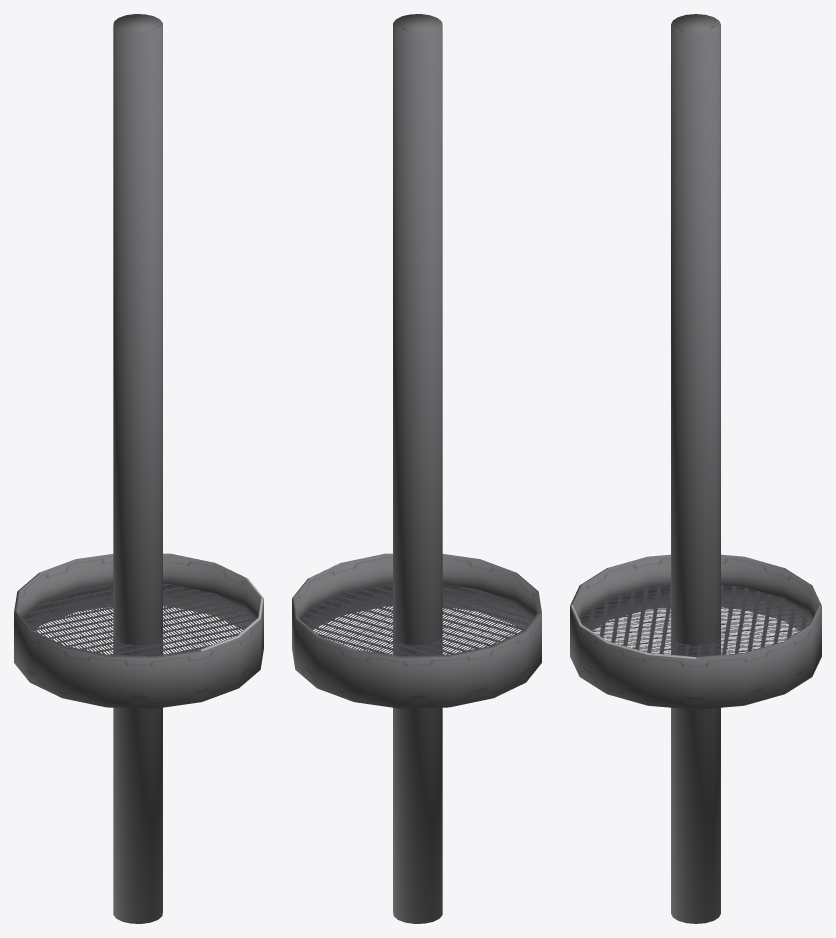
File: mdlMiddlePillar.fbx
The picture shows the model from 3 angles, left to right: view 1: azimuth 30°, elevation 25°; view 2: azimuth 150°, elevation 25°; view 3: azimuth 270°, elevation 25°; orthographic projection.
Visible parts, largest first — view 1: MiddleStand; view 2: MiddleStand; view 3: MiddleStand.
Part boxes in pixels (x1,y1,x2,y2): MiddleStand: [14, 14, 263, 923]; MiddleStand: [292, 14, 541, 923]; MiddleStand: [570, 14, 821, 923].
Size of the model in its own units: 14.5 by 56.44 by 14.5.
